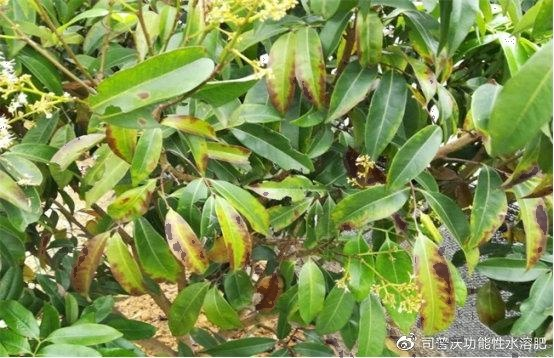Anthracnose: (76, 168, 248, 298), (446, 131, 550, 266), (236, 37, 334, 120), (337, 147, 421, 228), (38, 46, 110, 123), (125, 80, 207, 145), (377, 239, 453, 309), (261, 242, 302, 317)
